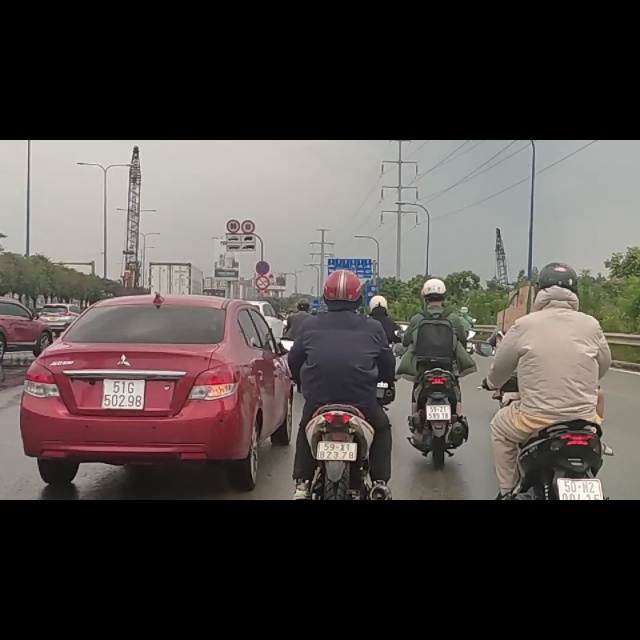bien_cam: (255, 215, 270, 239)
